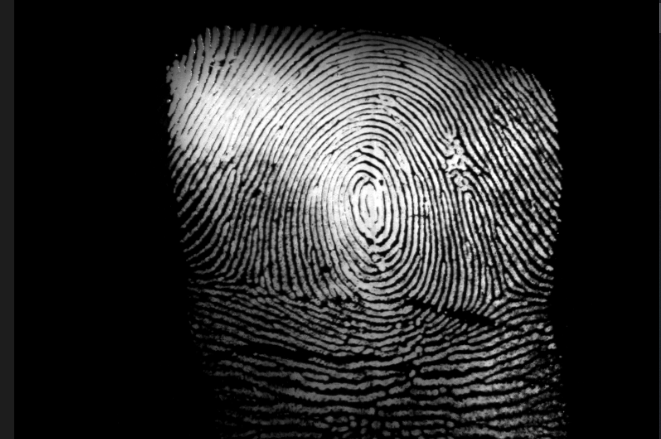deltas: (217, 247, 276, 310), (466, 254, 525, 311)
nucleo: (344, 167, 399, 237)
